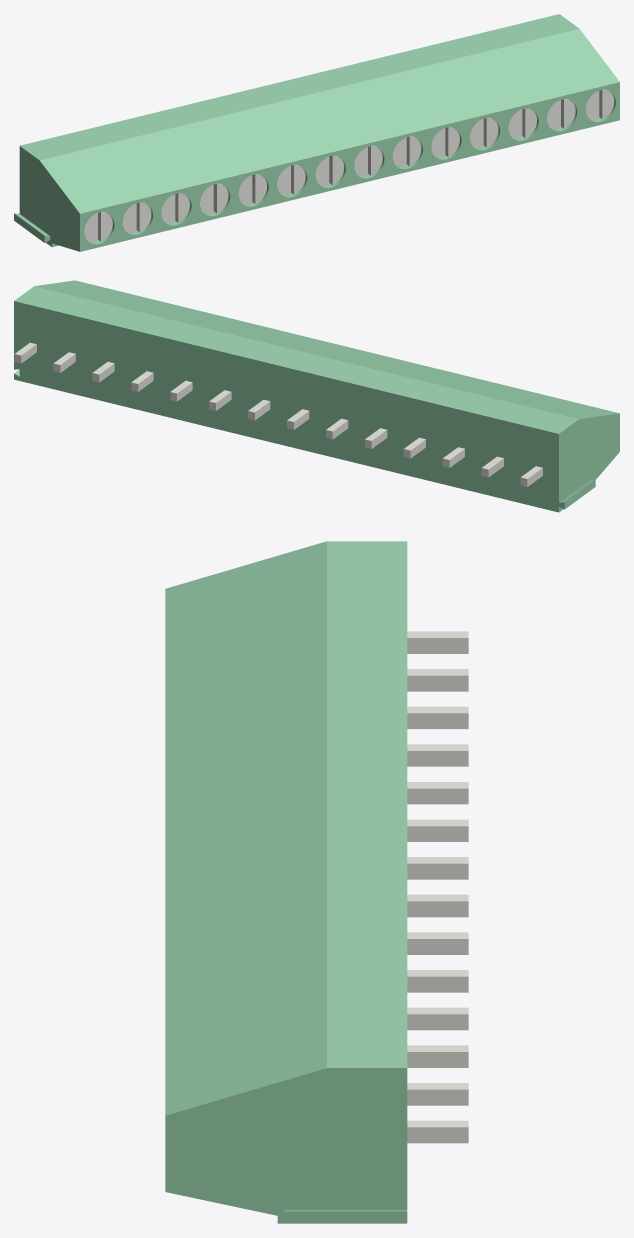
File: TerminalBlock_Phoenix_MKDS-1,5-14-5.08_1x14_P5.08mm_Horizontal.glb
3 renders of one model, top to bottom at view 1: azimuth 30°, elevation 25°; view 2: azimuth 150°, elevation 25°; view 3: azimuth 270°, elevation 25°, orthographic. The views are drawn at different scales.
Parts seen in each view (by area): view 1: Shape_IndexedFaceSet.003, Shape_IndexedFaceSet.004, Shape_IndexedFaceSet.002, Shape_IndexedFaceSet; view 2: Shape_IndexedFaceSet.005, Shape_IndexedFaceSet.004, Shape_IndexedFaceSet.003, Shape_IndexedFaceSet; view 3: Shape_IndexedFaceSet.003, Shape_IndexedFaceSet.004, Shape_IndexedFaceSet.011, Shape_IndexedFaceSet.037, Shape_IndexedFaceSet.045, Shape_IndexedFaceSet.049, Shape_IndexedFaceSet.057, Shape_IndexedFaceSet.061, Shape_IndexedFaceSet.065, Shape_IndexedFaceSet.073, Shape_IndexedFaceSet.085, Shape_IndexedFaceSet.033 (+5 smaller).
Part boxes in pixels (<box>): Shape_IndexedFaceSet.003: <box>40,28,619,213</box>; Shape_IndexedFaceSet.004: <box>20,14,578,160</box>; Shape_IndexedFaceSet.002: <box>80,82,619,251</box>; Shape_IndexedFaceSet: <box>19,146,79,251</box>; Shape_IndexedFaceSet.005: <box>14,301,564,512</box>; Shape_IndexedFaceSet.004: <box>14,286,578,433</box>; Shape_IndexedFaceSet.003: <box>35,280,618,418</box>; Shape_IndexedFaceSet: <box>559,413,619,512</box>; Shape_IndexedFaceSet.003: <box>165,541,326,1115</box>; Shape_IndexedFaceSet.004: <box>327,541,407,1067</box>; Shape_IndexedFaceSet.011: <box>165,1068,407,1223</box>; Shape_IndexedFaceSet.037: <box>407,863,468,879</box>; Shape_IndexedFaceSet.045: <box>407,901,468,917</box>; Shape_IndexedFaceSet.049: <box>407,1089,468,1105</box>; Shape_IndexedFaceSet.057: <box>407,976,468,992</box>; Shape_IndexedFaceSet.061: <box>407,1014,468,1030</box>; Shape_IndexedFaceSet.065: <box>407,788,468,804</box>; Shape_IndexedFaceSet.073: <box>407,675,468,691</box>; Shape_IndexedFaceSet.085: <box>407,1127,468,1143</box>; Shape_IndexedFaceSet.033: <box>407,826,468,841</box>.
Bounding box in the file's own units: 28.29 × 3.86 × 6.81.
